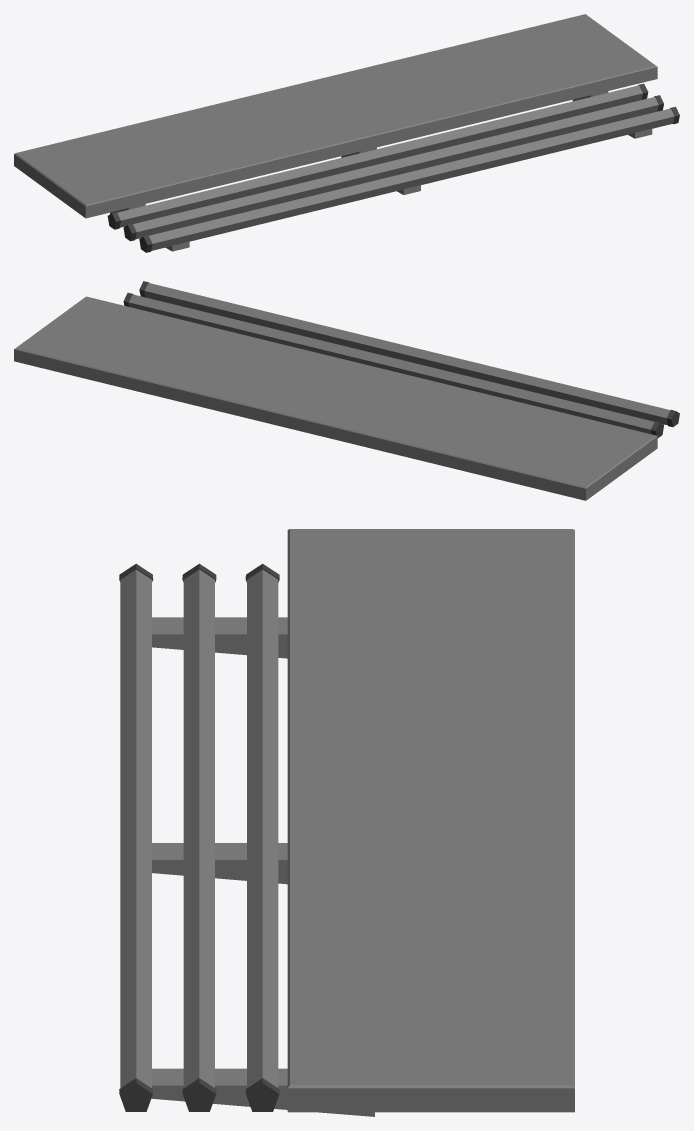
File: Int_KitchenServingCounter01.fbx
3 renders of one model, top to bottom at view 1: azimuth 30°, elevation 25°; view 2: azimuth 150°, elevation 25°; view 3: azimuth 270°, elevation 25°, orthographic. The views are drawn at different scales.
Visible parts, largest first — view 1: Int_KitchenServingCounter01; view 2: Int_KitchenServingCounter01; view 3: Int_KitchenServingCounter01.
Boxes of the visible parts, left/top/right/bottom form: Int_KitchenServingCounter01: left=14, top=14, right=679, bottom=252; Int_KitchenServingCounter01: left=14, top=281, right=679, bottom=500; Int_KitchenServingCounter01: left=119, top=529, right=574, bottom=1116.
Size of what is drawn, in the model's own units: 230 by 79.35 by 14.54.
